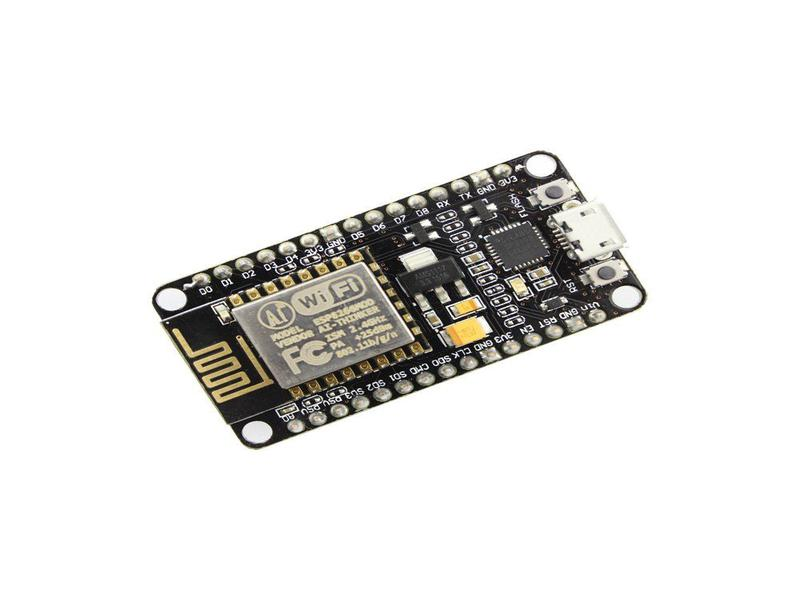ESP8266: (147, 142, 650, 453)
